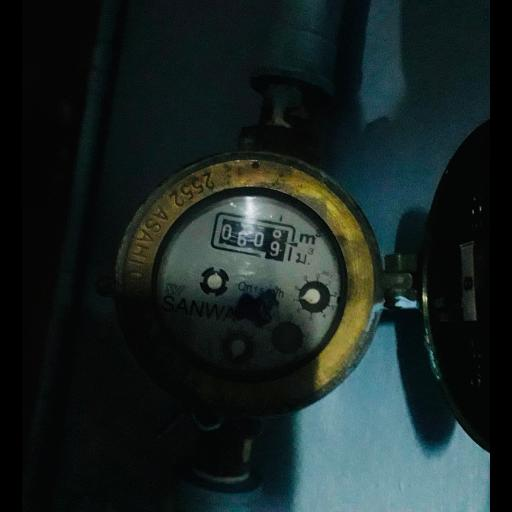0: (248, 224, 271, 253), (219, 218, 238, 246)
6: (233, 221, 252, 249)
8: (265, 227, 290, 261)
border_water_meter_number: (209, 212, 297, 263)
